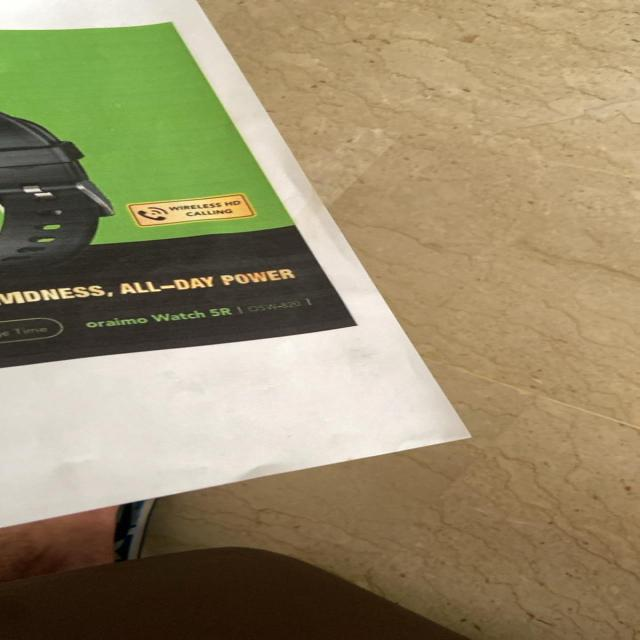Oraimo Watch 5R OSW-820: (86, 294, 316, 332)
